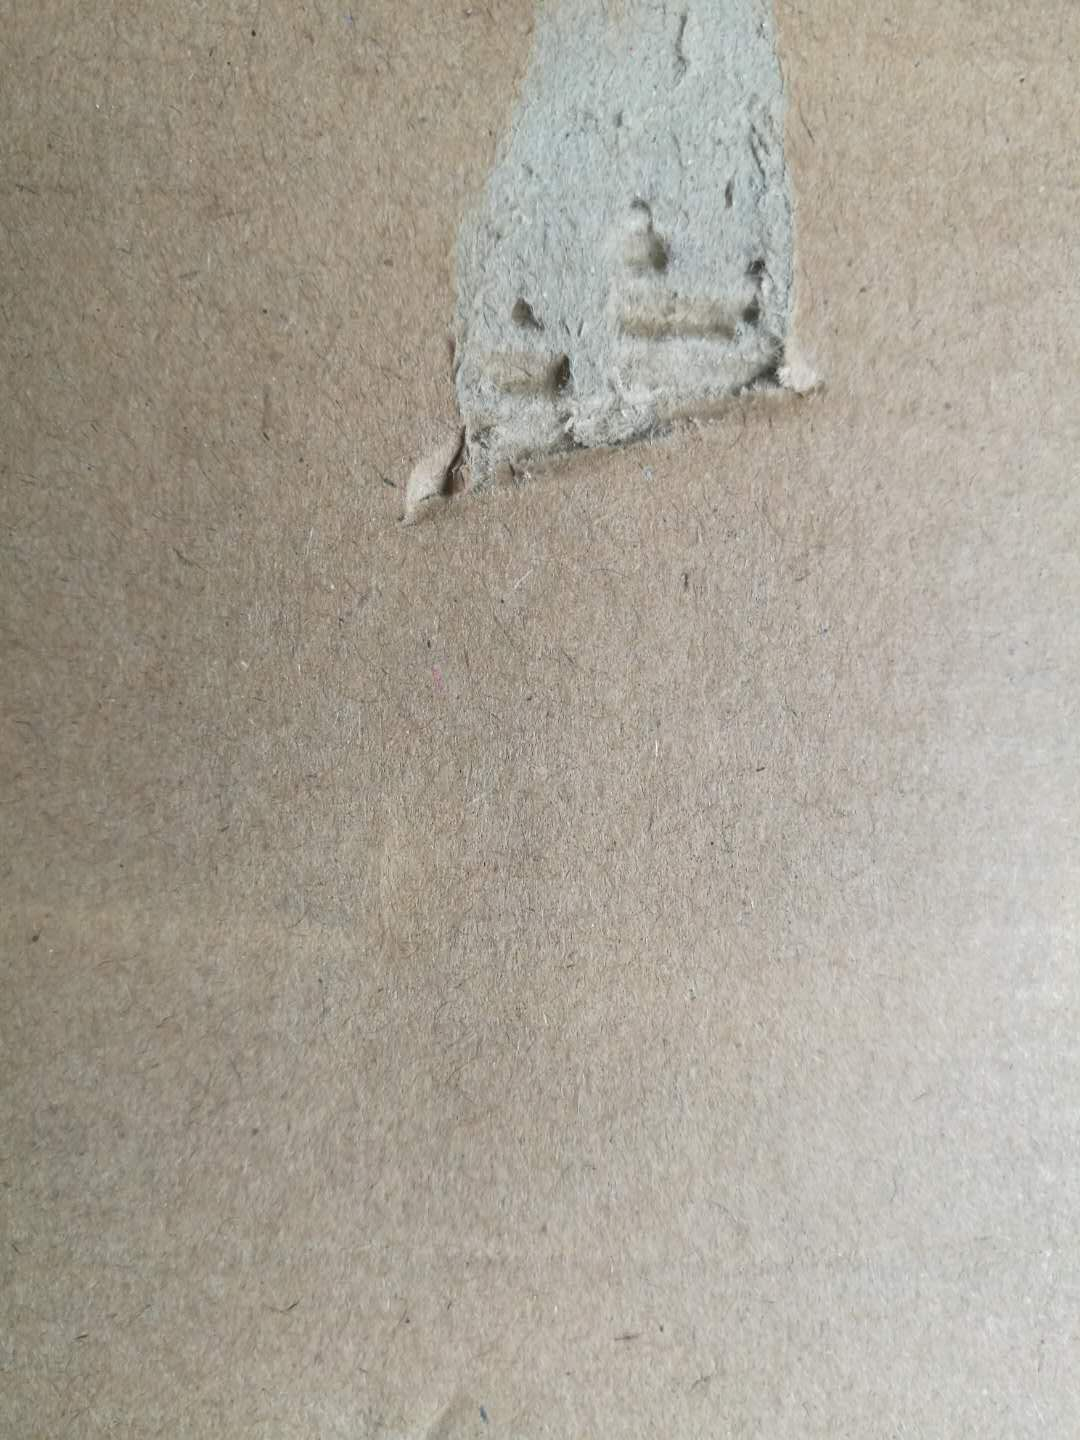defect: (368, 1, 895, 568)
